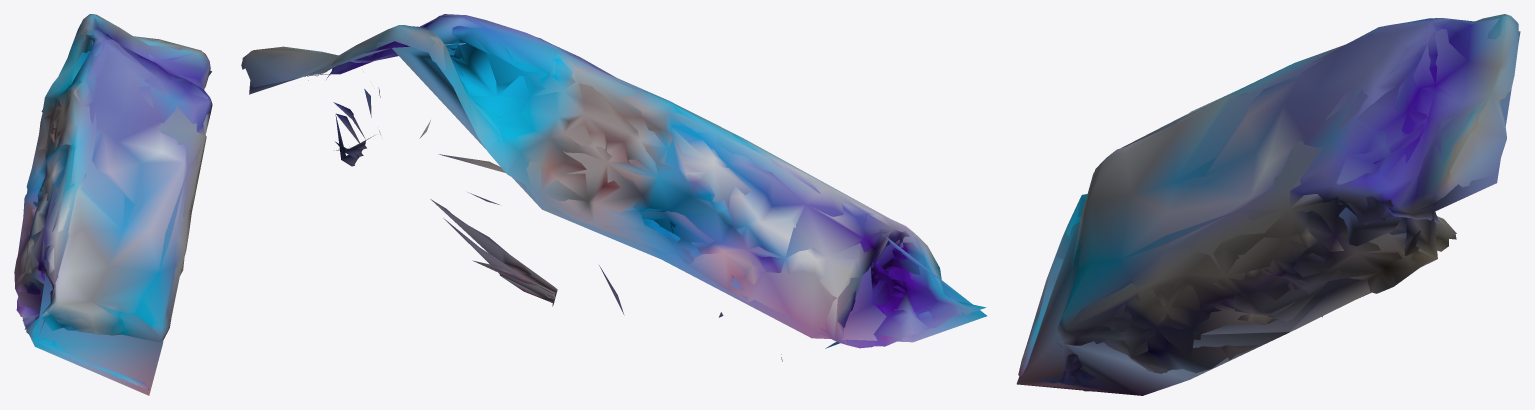
File: imp-cookies.glb
3 renders of one model, left to right at view 1: azimuth 30°, elevation 25°; view 2: azimuth 150°, elevation 25°; view 3: azimuth 270°, elevation 25°, orthographic. The views are drawn at different scales.
Visible parts, largest first — view 1: Kerbside_metres_ground_pivot (×3); view 2: Kerbside_metres_ground_pivot (×3); view 3: Kerbside_metres_ground_pivot (×3).
Boxes of the visible parts, x1,y1,x2,y2 form: Kerbside_metres_ground_pivot (×3): [14, 14, 212, 395]; Kerbside_metres_ground_pivot (×3): [241, 14, 986, 361]; Kerbside_metres_ground_pivot (×3): [1016, 14, 1520, 395].
Bounding box in the file's own units: 0.2 × 0.1748 × 0.1814.
